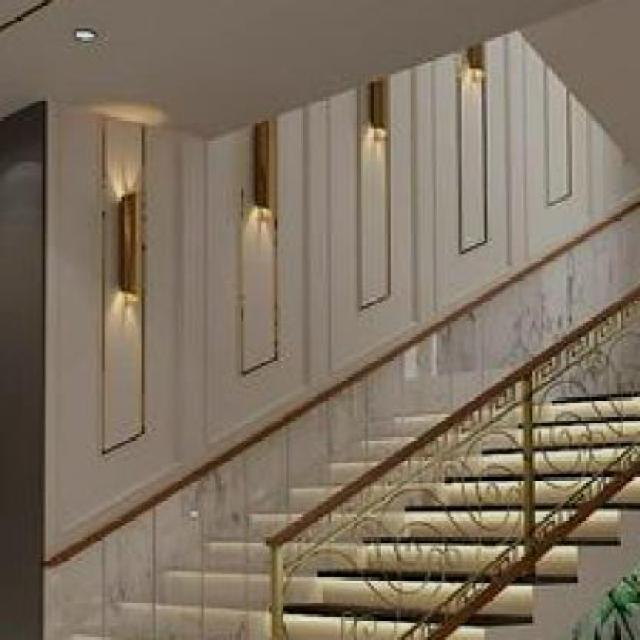stair: (37, 351, 638, 638)
